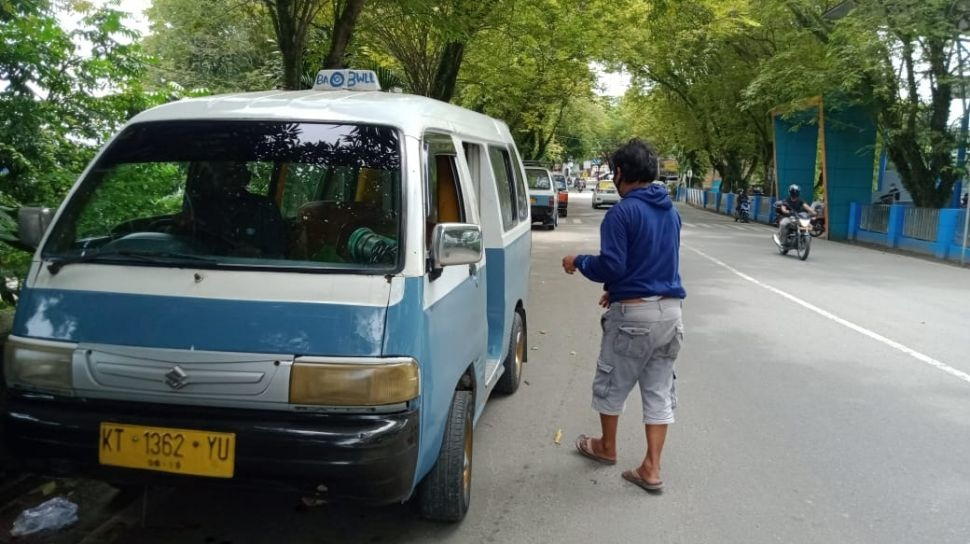plat nomor: (91, 420, 238, 480)
